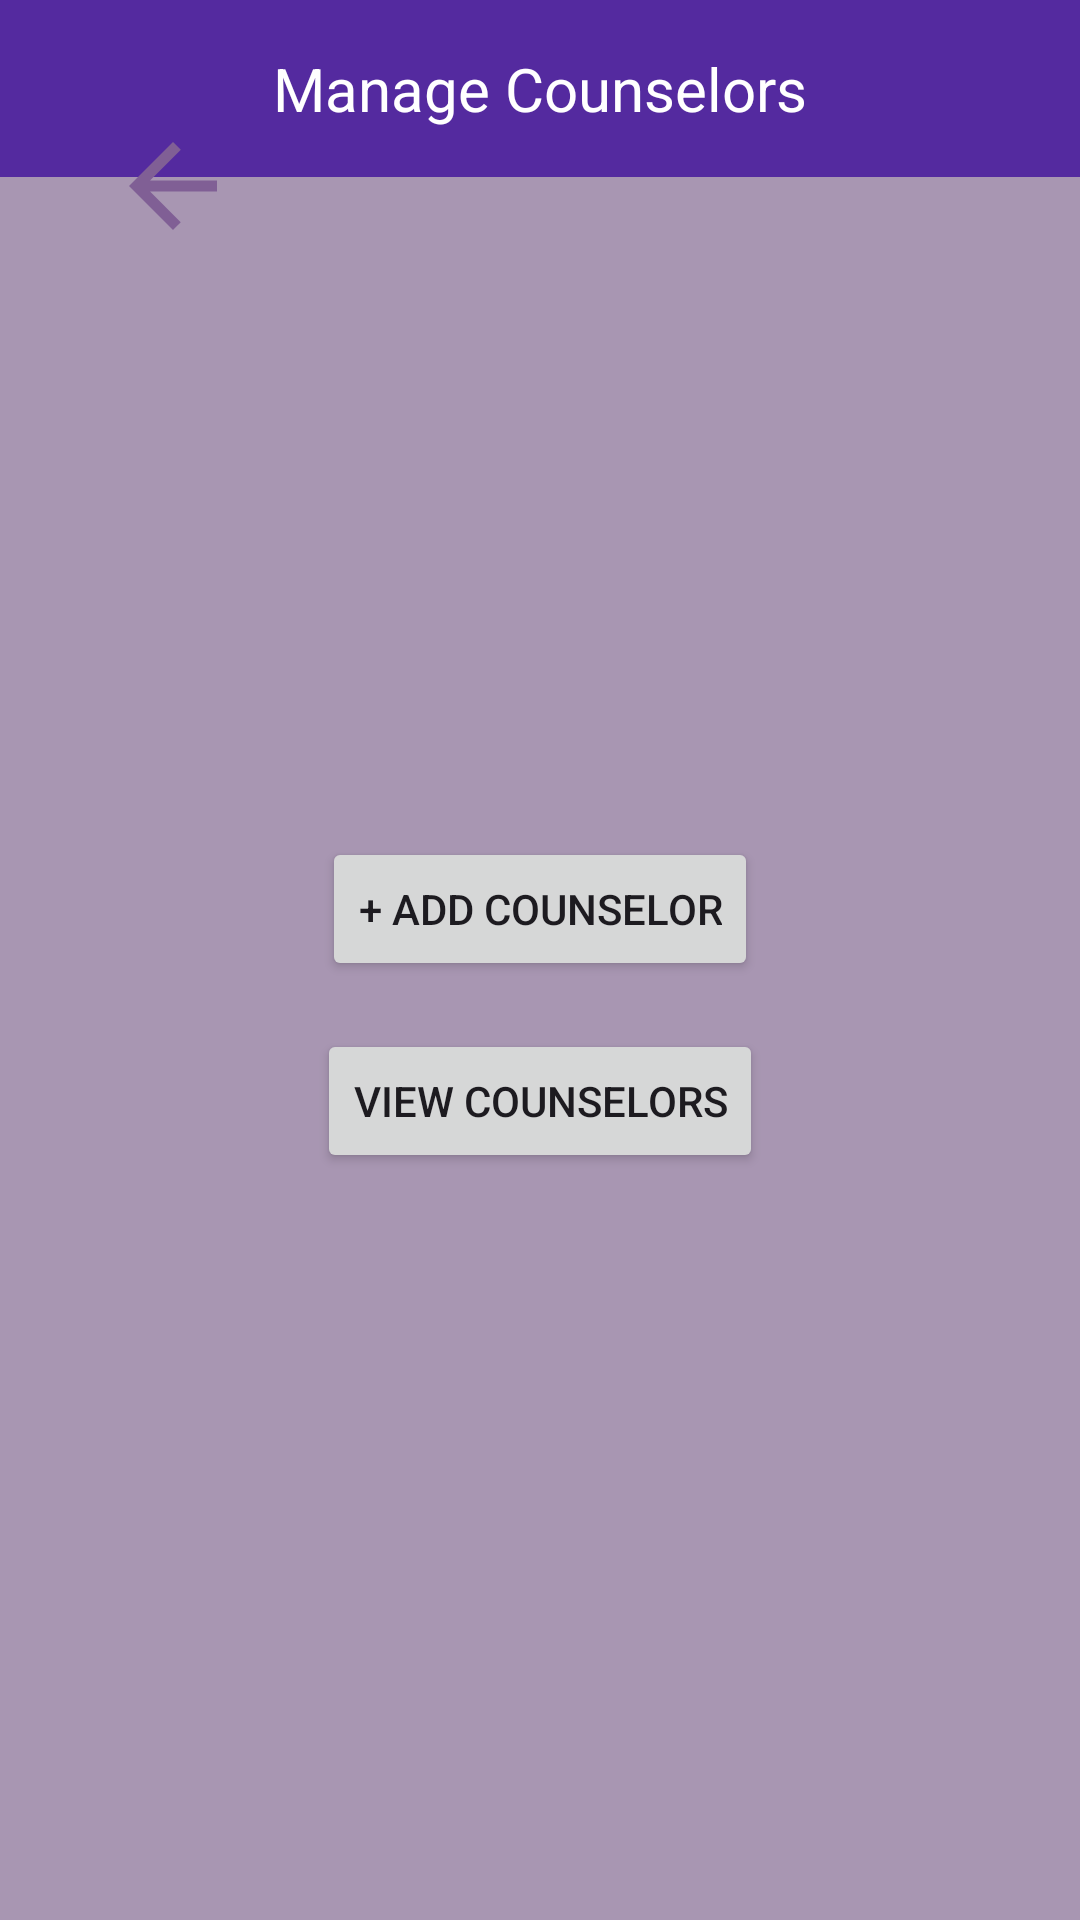

Screen size 1080 x 1920. Icon name, then its center in pixels as [x,y]:
back: [172,186]
